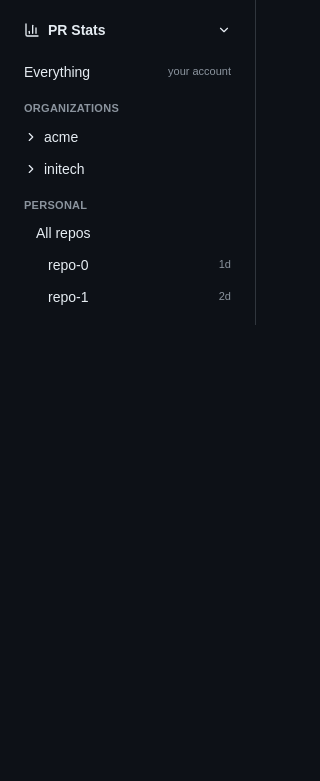
StatsSidebar: honest degradation (#825 requirement 2) › a readable org with no members says that, not the refusal
Step 1. Click the button "acme" → coordinates (128, 136), box [12, 120, 243, 152]
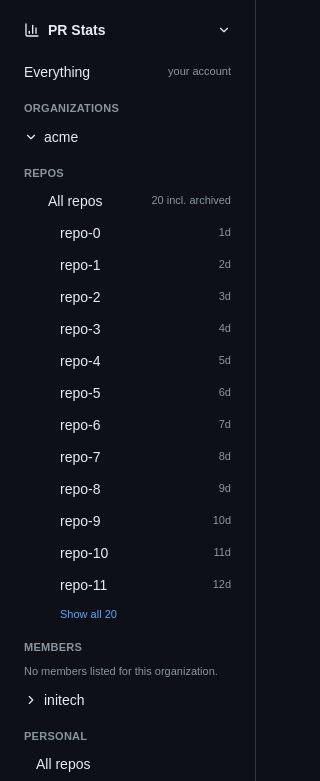
Check: the text "No members listed for this organization." is shown, box [24, 665, 218, 677]
